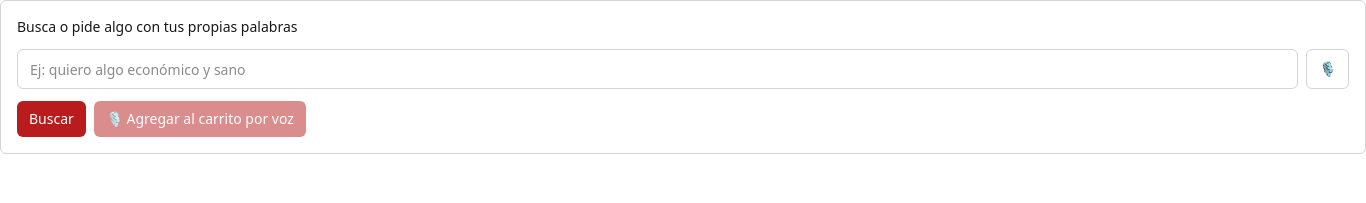
Test: BusquedaPorVoz · texto (HU-06) › sigue disponible (campo de texto operativo) si el proveedor falla (FR-016)
In the field labelled "Busca o pide algo con tus propias palabras": (658, 69) x1=17 y1=49 x2=1298 y2=89, type "algo"
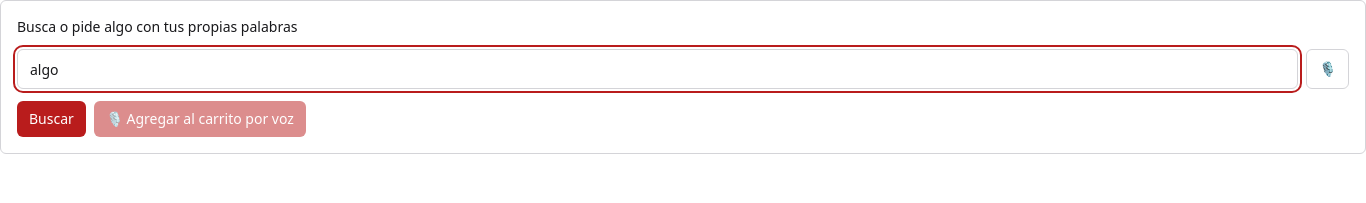
Click the button "Buscar": (51, 119) x1=17 y1=101 x2=86 y2=137
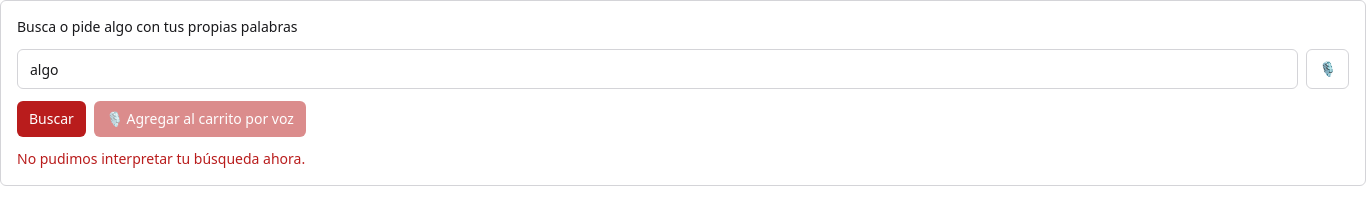
Expected: the field labelled "Busca o pide algo con tus propias palabras" is enabled, x1=17 y1=49 x2=1298 y2=89
Expected: the message reads "No pudimos interpretar tu búsqueda ahora.", x1=17 y1=149 x2=305 y2=168
